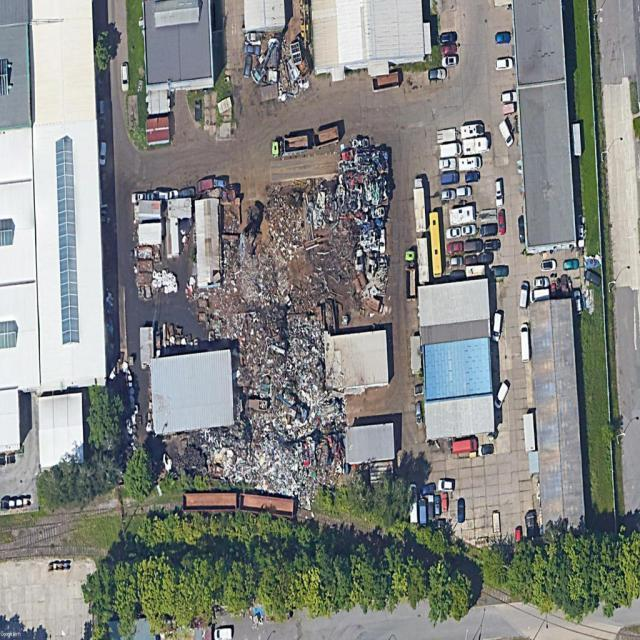dump_site: (231, 308, 328, 425), (200, 417, 347, 485)
